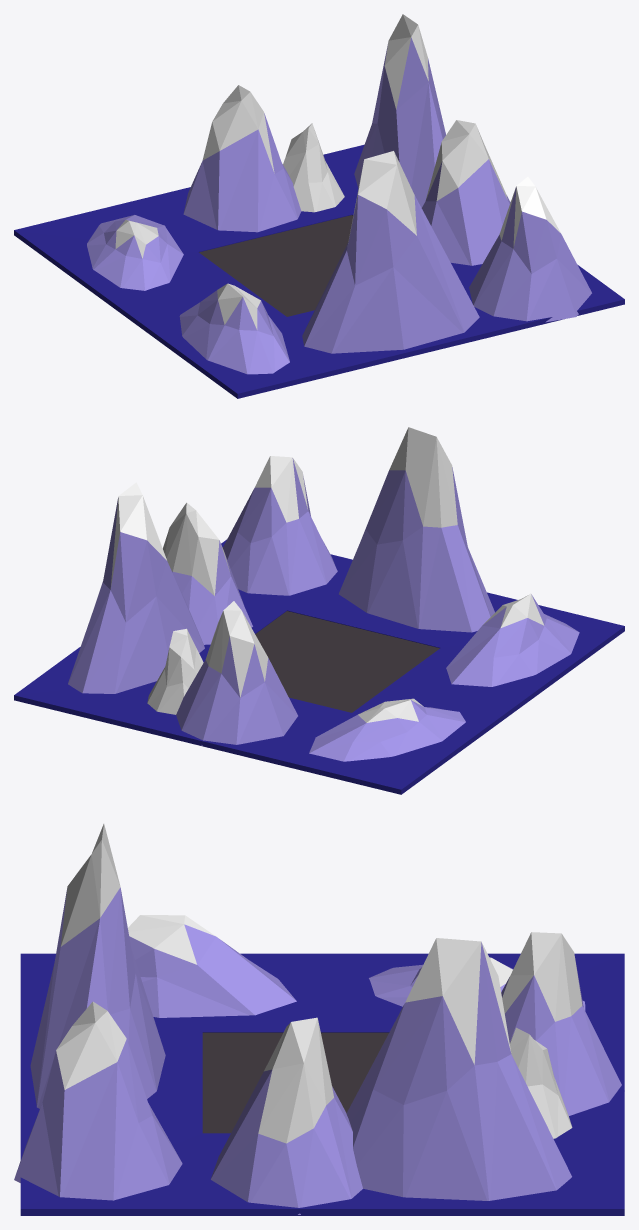
Rendered from Map3.fbx.
The picture shows the model from 3 angles, top to bottom: view 1: azimuth 30°, elevation 25°; view 2: azimuth 150°, elevation 25°; view 3: azimuth 270°, elevation 25°; orthographic projection. The views are drawn at different scales.
Visible parts, largest first — view 1: Cube.001, Cone.005, Cone, Cone.004, Cone.003, Cone.001, Cube, Cone.006, Cone.007, Cone.002; view 2: Cube.001, Cone.005, Cone.003, Cube, Cone.004, Cone, Cone.006, Cone.007, Cone.001, Cone.002; view 3: Cube.001, Cone.003, Cone.004, Cone.001, Cone.005, Cone, Cone.006, Cube, Cone.002, Cone.007.
Part boxes in pixels (x1,y1,x2,y2): Cube.001: (14, 144, 624, 398); Cone.005: (302, 151, 479, 353); Cone: (183, 85, 301, 232); Cone.004: (469, 177, 591, 322); Cone.003: (354, 14, 445, 207); Cone.001: (421, 120, 510, 265); Cube: (199, 215, 353, 316); Cone.006: (179, 283, 289, 374); Cone.007: (87, 215, 183, 290); Cone.002: (283, 123, 344, 212); Cube.001: (14, 539, 624, 794); Cone.005: (339, 427, 494, 632); Cone.003: (68, 482, 204, 693); Cube: (255, 611, 439, 712); Cone.004: (223, 456, 337, 595); Cone: (176, 601, 297, 745); Cone.006: (446, 594, 579, 686); Cone.007: (309, 698, 465, 761); Cone.001: (163, 502, 252, 644); Cone.002: (147, 628, 203, 714); Cube.001: (20, 953, 624, 1215); Cone.003: (346, 938, 571, 1200); Cone.004: (14, 1001, 182, 1200); Cone.001: (210, 1017, 362, 1214); Cone.005: (30, 824, 165, 1108); Cone: (501, 932, 621, 1115); Cone.006: (128, 915, 296, 1017); Cube: (202, 1032, 388, 1133); Cone.002: (510, 1027, 572, 1138); Cone.007: (369, 957, 585, 1010).
Size of the model in its own units: 75.72 by 33.71 by 76.51.
